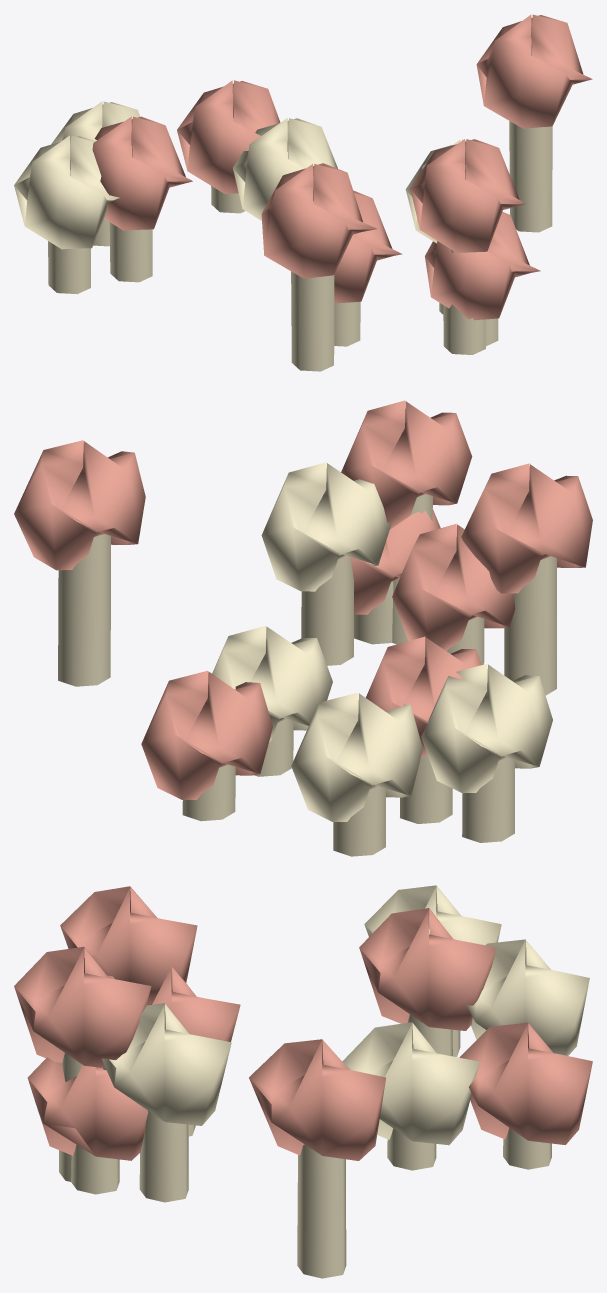
File: mushroom_cluster.glb
The picture shows the model from 3 angles, top to bottom: view 1: azimuth 30°, elevation 25°; view 2: azimuth 150°, elevation 25°; view 3: azimuth 270°, elevation 25°; orthographic projection. The views are drawn at different scales.
Visible parts, largest first — view 1: mushroom_cluster; view 2: mushroom_cluster; view 3: mushroom_cluster.
Part boxes in pixels (x1=…): mushroom_cluster: x1=14, y1=14, x2=592, y2=371; mushroom_cluster: x1=14, y1=400, x2=592, y2=856; mushroom_cluster: x1=14, y1=885, x2=592, y2=1278.
Bounding box in the file's own units: 1.4 × 0.5485 × 1.26.
